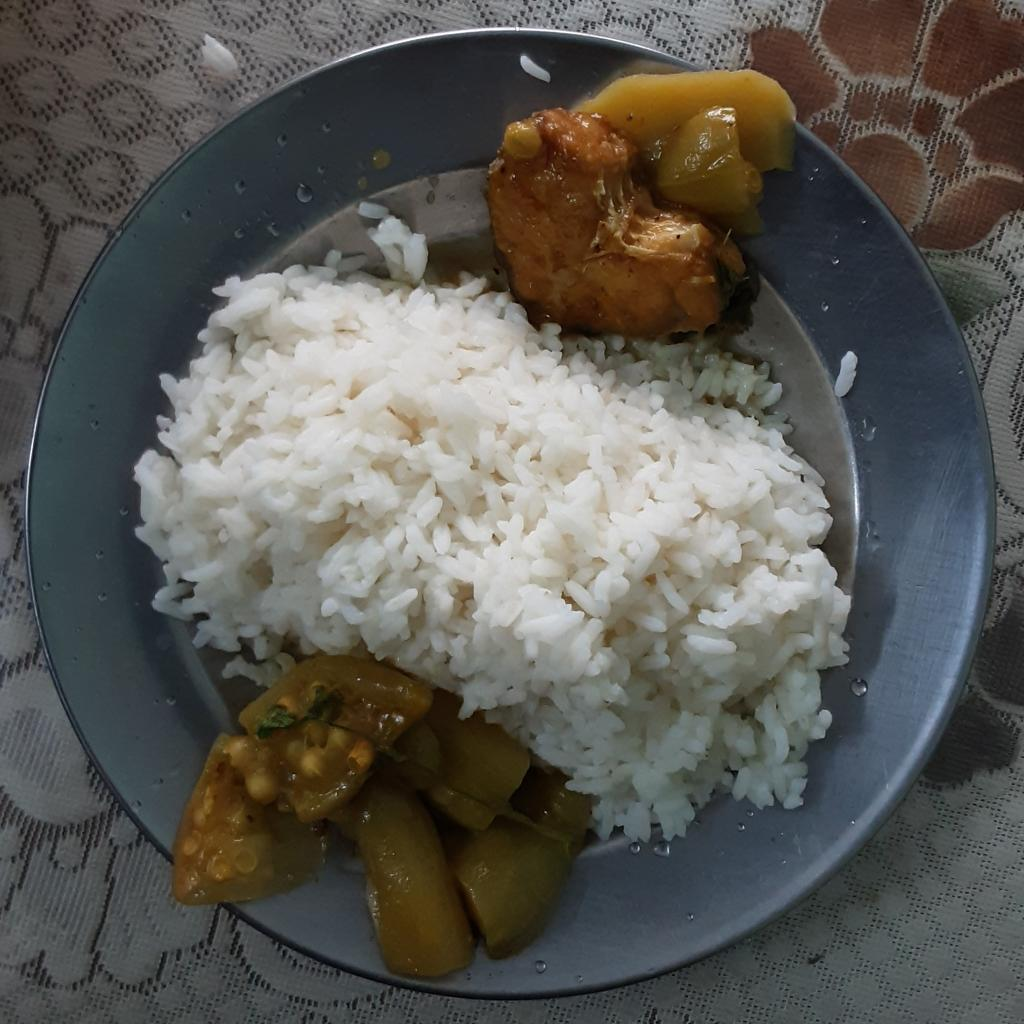fish: (483, 104, 750, 344)
potato: (573, 68, 800, 226)
potol: (168, 648, 594, 984)
rice: (133, 200, 850, 852)
